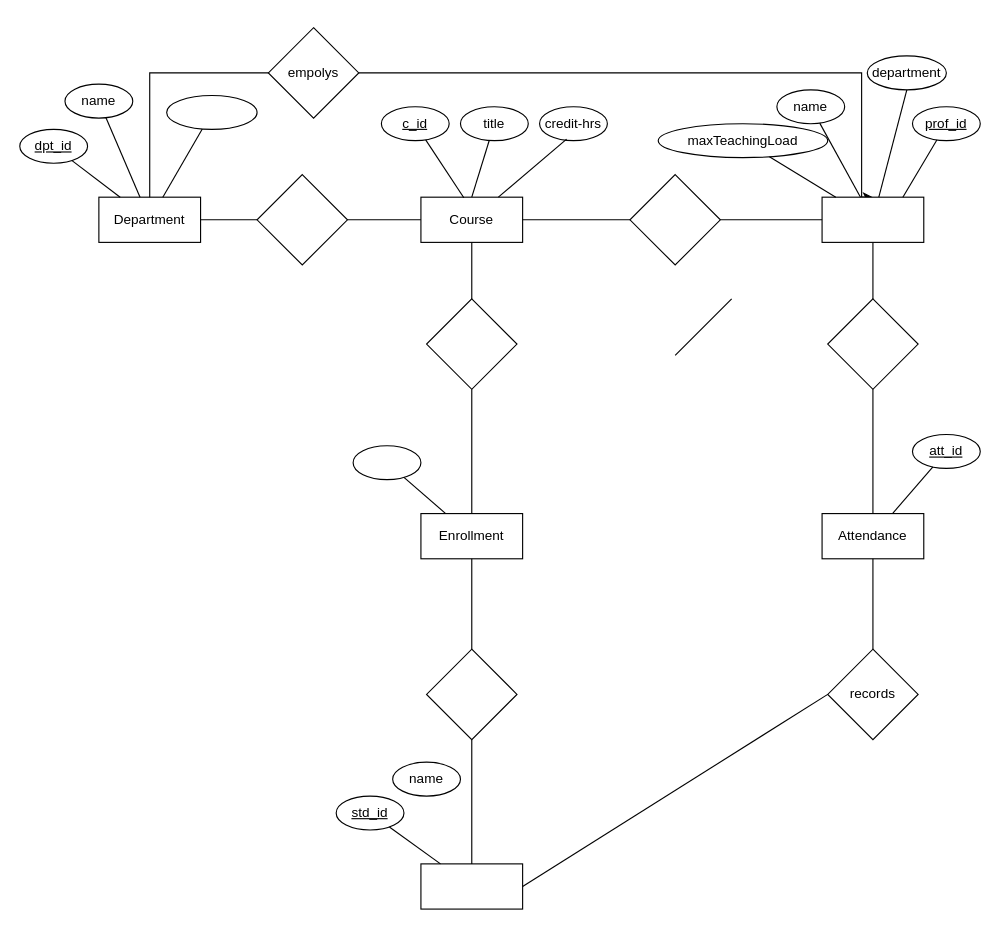
The diagram is 1000 pixels wide and 929 high, and some of its shapes have lost their labels. The centre of each missing label's shape, as x and y in pixels:
"enr_id" belongs at pixel 386 462.
"enroll" belongs at pixel 471 343.
"has" belongs at pixel 471 694.
"marks" belongs at pixel 872 343.
"offer" belongs at pixel 301 219.
"performance" belongs at pixel 211 111.
"Professor" belongs at pixel 872 219.
"Student" belongs at pixel 471 886.
"teaches" belongs at pixel 674 219.
